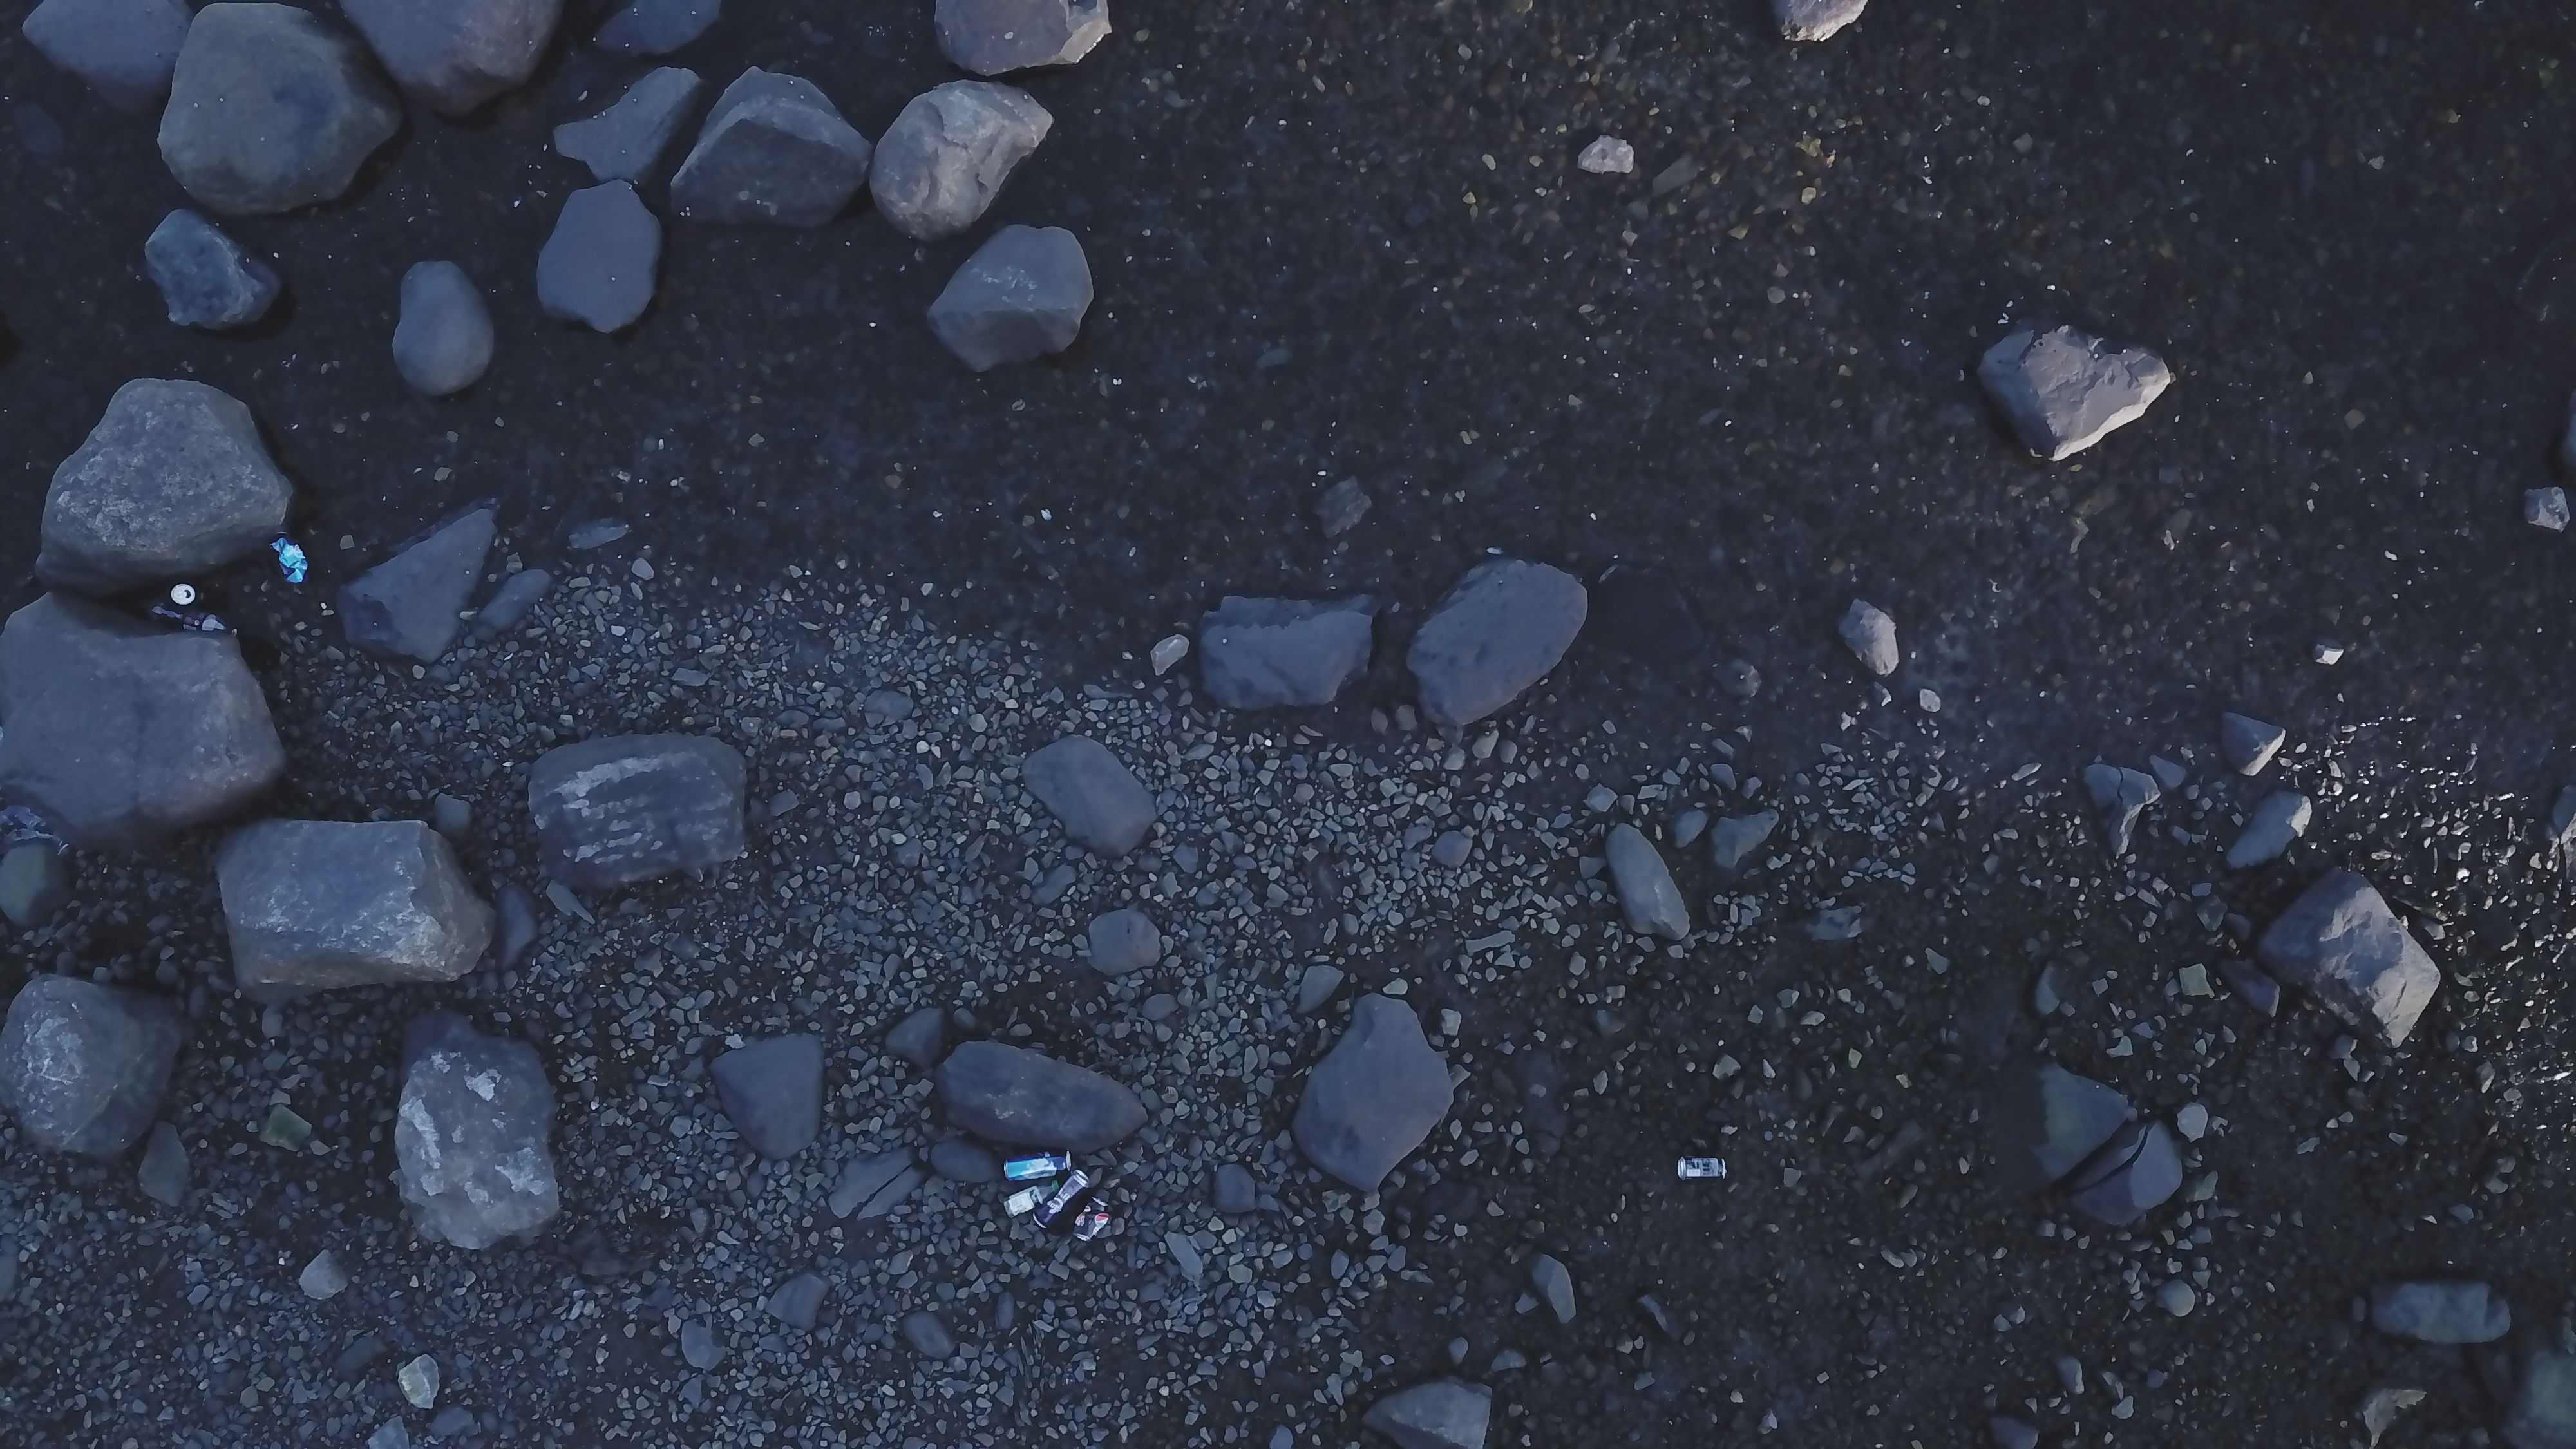Can: (1030, 1173, 1093, 1219), (267, 531, 315, 586), (1008, 1150, 1081, 1177), (1074, 1198, 1111, 1246), (1677, 1157, 1730, 1182), (168, 584, 200, 603)
PlasticBottle: (149, 607, 239, 637), (1007, 1182, 1056, 1221)
